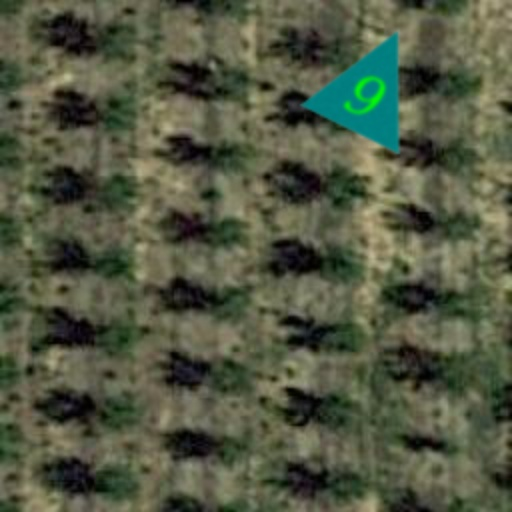triangle: (300, 6, 448, 154)
